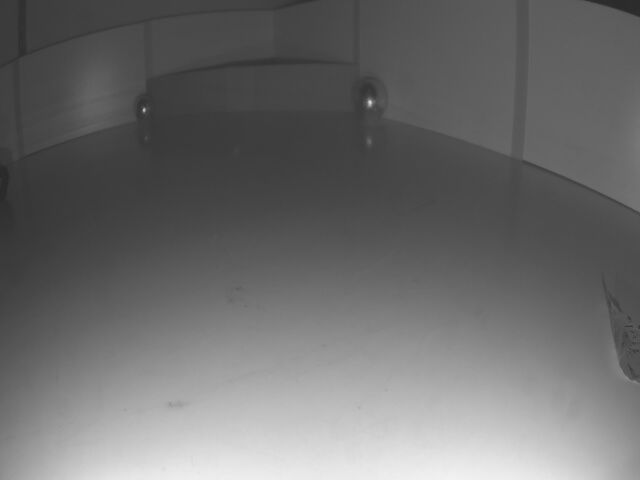Live: (352, 78, 392, 123), (134, 95, 162, 127)
Point: (145, 63, 358, 120)
